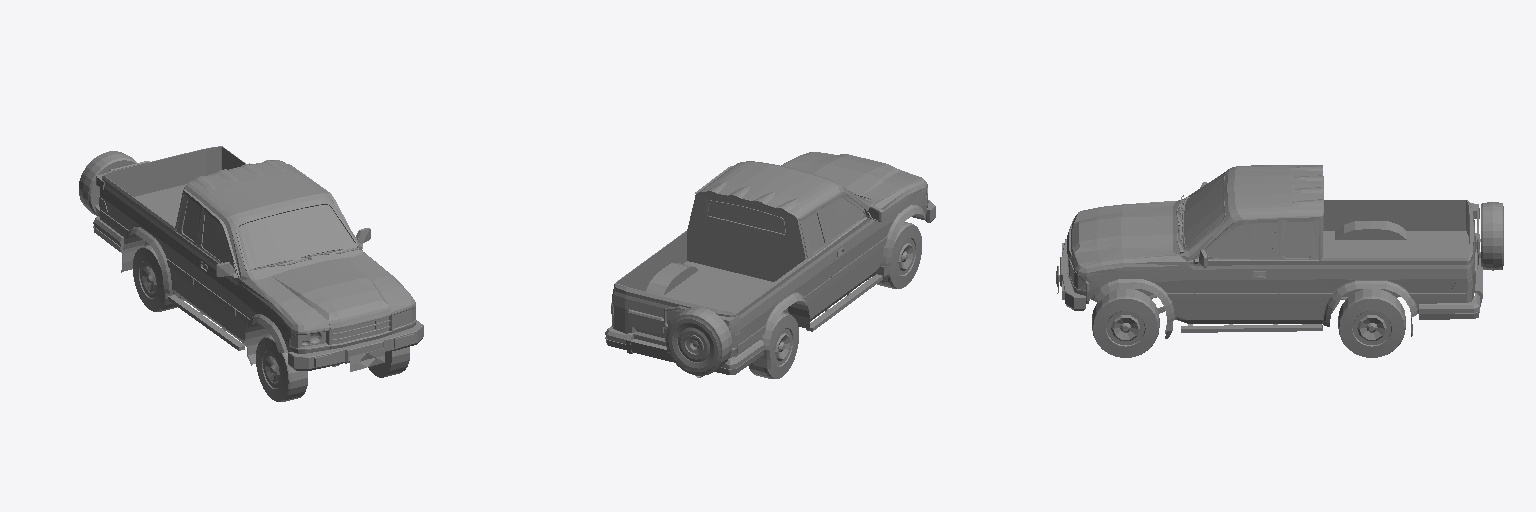
File: SM_TC5car01B.obj
3 views of the same model, side by side, from view 1: azimuth 30°, elevation 25°; view 2: azimuth 150°, elevation 25°; view 3: azimuth 270°, elevation 25° (orthographic).
Parts seen in each view (by area): view 1: SM_TC5car01; view 2: SM_TC5car01; view 3: SM_TC5car01.
Part boxes in pixels (x1,y1,x2,y2): SM_TC5car01: (79,146,423,401); SM_TC5car01: (605,152,935,378); SM_TC5car01: (1056,165,1503,357).
Size of the model in its own units: 259 by 235 by 652.